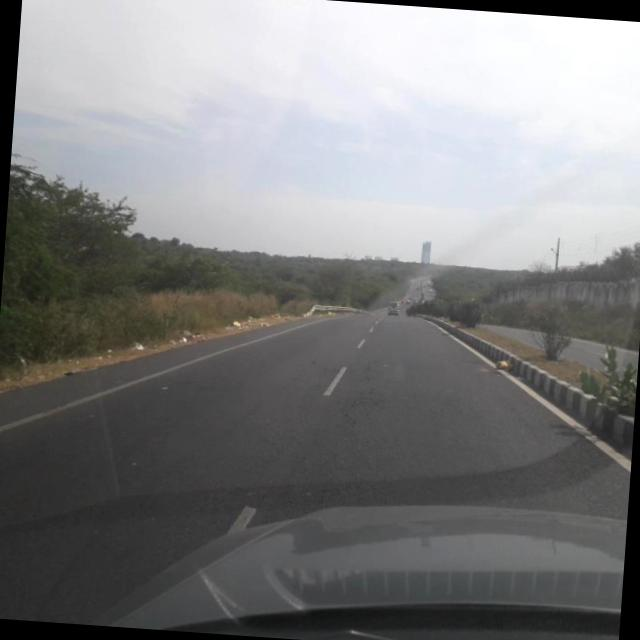pothole: (326, 332, 394, 450)
